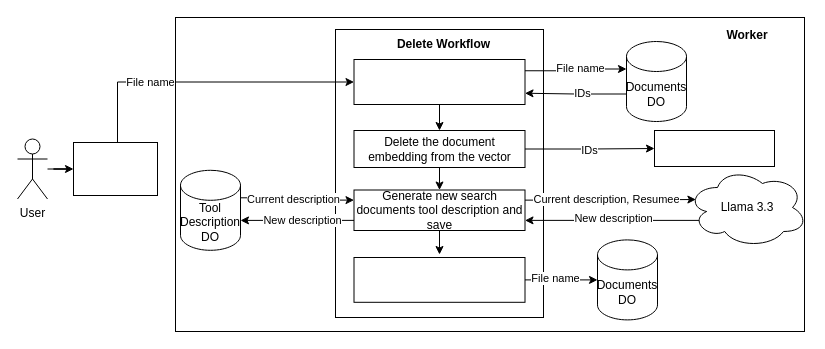
The diagram is 825 pixels wide and 349 high, and some of its shapes have lost their labels. Each missing label, with the box of its shape:
Delete document from DO: (353, 256, 525, 302)
Get the embeddings IDs from the DO: (353, 58, 525, 104)
UI: (72, 142, 158, 196)
Vectorize: (654, 130, 774, 166)
